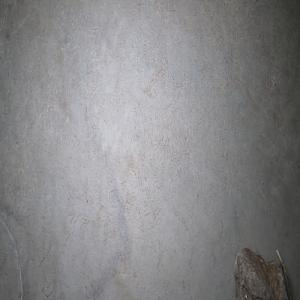Rock: (233, 247, 290, 300)
